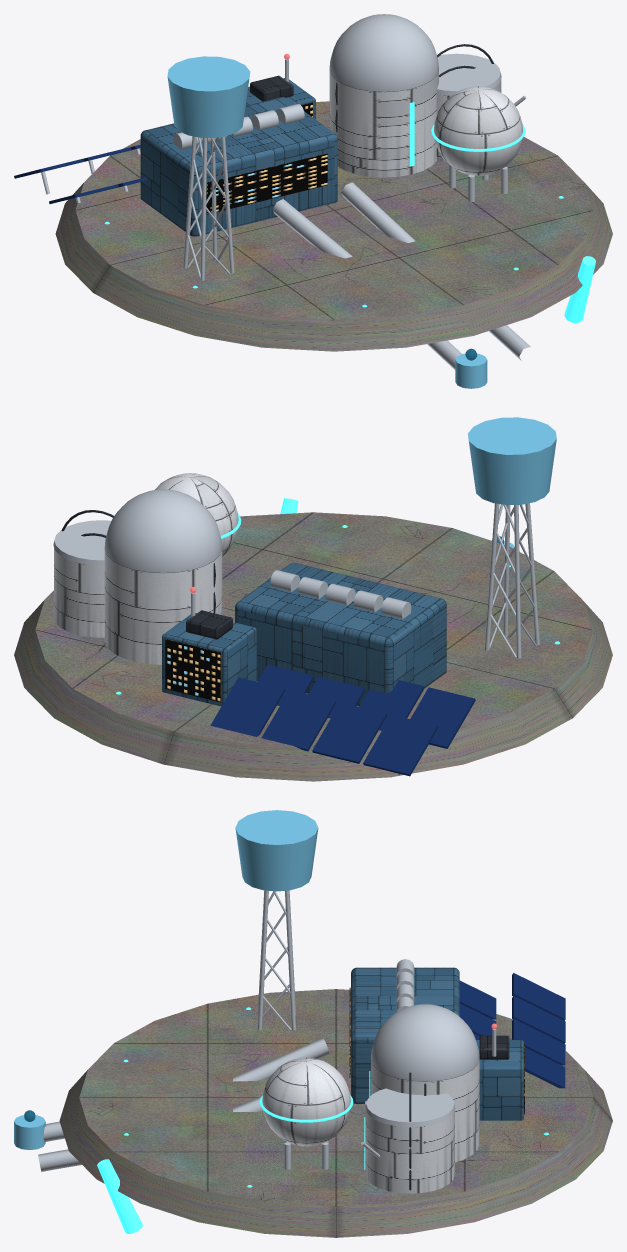
The model's file is desal-T4.glb.
3 views of the same model, one above another, from view 1: azimuth 30°, elevation 25°; view 2: azimuth 150°, elevation 25°; view 3: azimuth 270°, elevation 25° (orthographic). The views are drawn at different scales.
Parts seen in each view (by area): view 1: object 1, object 11, object 18, object 19, object 32, object 70, object 12, object 26, object 72, object 71, object 75, object 73 (+2 smaller); view 2: object 1, object 11, object 18, object 19, object 70, object 25, object 76, object 78, object 82, object 84, object 86, object 88 (+12 smaller); view 3: object 1, object 19, object 11, object 32, object 25, object 70, object 18, object 76, object 26, object 71, object 75, object 82 (+8 smaller).
Part boxes in pixels (left/top/right/bottom): object 1: left=55, top=101, right=612, bottom=351; object 11: left=140, top=97, right=337, bottom=236; object 18: left=329, top=69, right=438, bottom=177; object 19: left=329, top=14, right=438, bottom=91; object 32: left=434, top=86, right=522, bottom=175; object 70: left=167, top=56, right=250, bottom=137; object 12: left=206, top=153, right=327, bottom=214; object 26: left=436, top=53, right=501, bottom=95; object 72: left=341, top=182, right=530, bottom=360; object 71: left=272, top=199, right=461, bottom=369; object 75: left=564, top=256, right=595, bottom=322; object 73: left=455, top=353, right=487, bottom=388; object 1: left=14, top=512, right=612, bottom=781; object 11: left=235, top=562, right=446, bottom=706; object 18: left=104, top=549, right=222, bottom=664; object 19: left=104, top=489, right=222, bottom=572; object 70: left=468, top=417, right=556, bottom=505; object 25: left=54, top=548, right=104, bottom=637; object 76: left=162, top=613, right=256, bottom=706; object 78: left=165, top=639, right=220, bottom=702; object 82: left=363, top=714, right=437, bottom=776; object 84: left=312, top=702, right=387, bottom=763; object 86: left=261, top=690, right=336, bottom=751; object 88: left=210, top=677, right=285, bottom=736; object 1: left=59, top=989, right=612, bottom=1237; object 19: left=371, top=1004, right=479, bottom=1081; object 11: left=351, top=967, right=459, bottom=1103; object 32: left=262, top=1057, right=350, bottom=1146; object 25: left=366, top=1110, right=454, bottom=1193; object 70: left=235, top=810, right=318, bottom=891; object 18: left=370, top=1059, right=479, bottom=1162; object 76: left=476, top=1039, right=523, bottom=1120; object 26: left=365, top=1088, right=455, bottom=1127; object 71: left=43, top=1038, right=329, bottom=1141; object 75: left=97, top=1159, right=143, bottom=1233; object 82: left=512, top=973, right=565, bottom=1020.
Size of the model in its own units: 5.6 by 2.93 by 6.06.
Materials: 13 (6 with a texture image).
